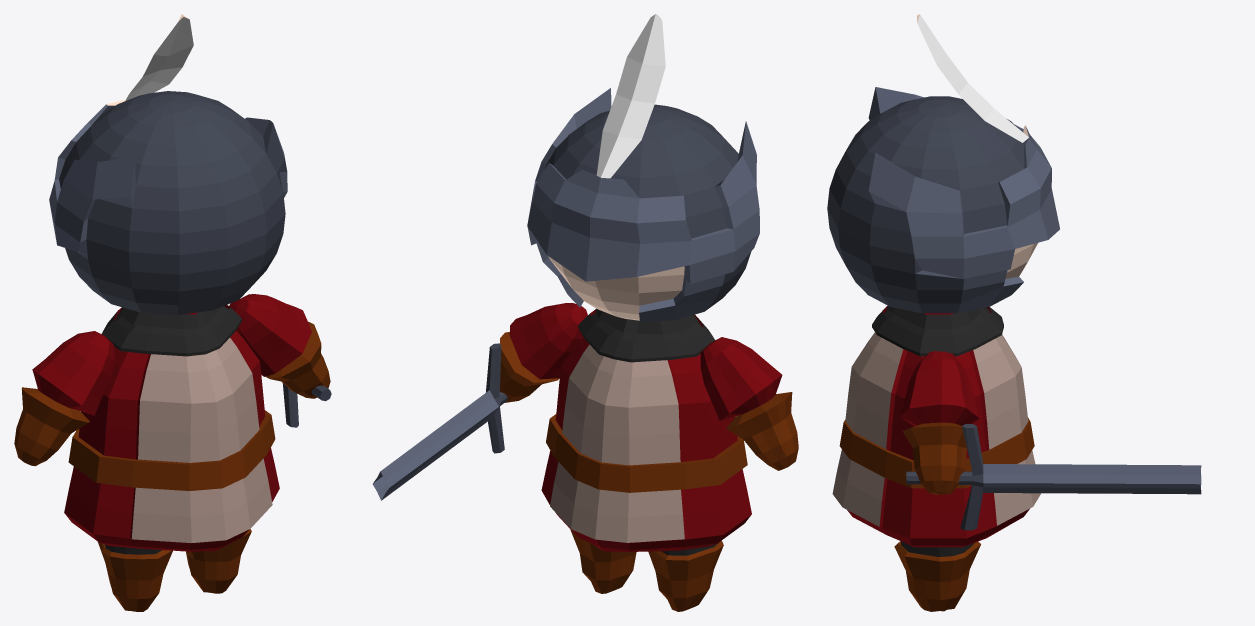
File: Player_Caracter_Model_Final.fbx
3 views of the same model, side by side, from view 1: azimuth 30°, elevation 25°; view 2: azimuth 150°, elevation 25°; view 3: azimuth 270°, elevation 25° (orthographic). The views are drawn at different scales.
Visible parts, largest first — view 1: Body; view 2: Body; view 3: Body.
Part boxes in pixels (x1=…): Body: x1=14, y1=14, x2=331, y2=611; Body: x1=372, y1=14, x2=798, y2=611; Body: x1=827, y1=14, x2=1201, y2=611.
Bounding box in the file's own units: 76.88 × 140 × 91.22.
1 material, 1 textured.
